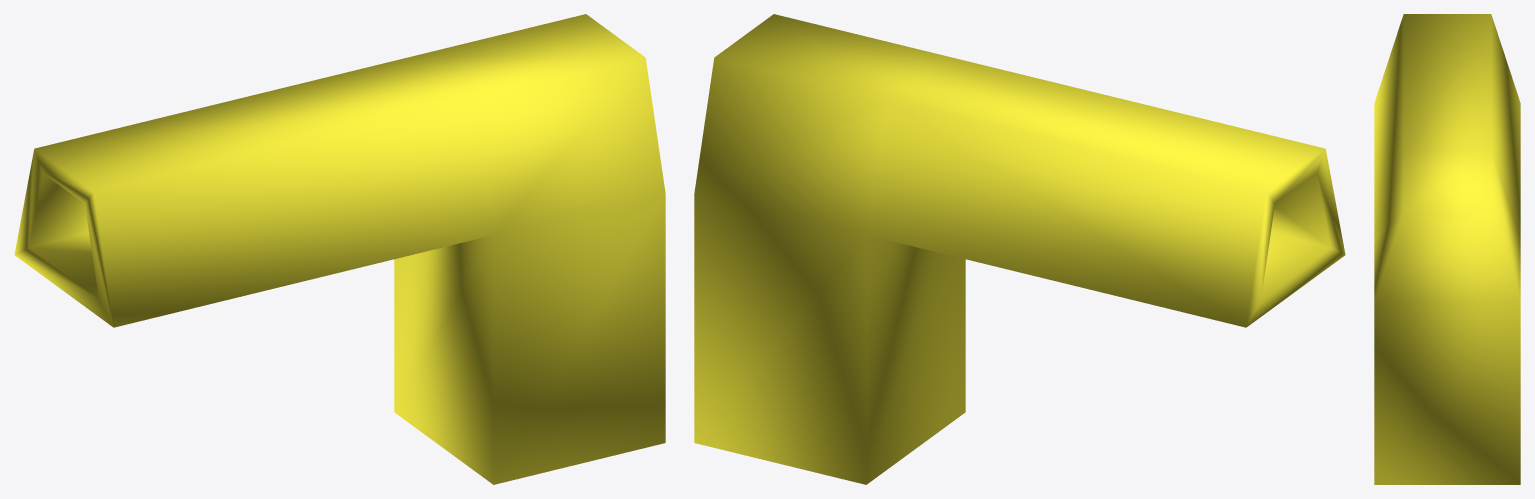
File: tank topper.fbx
3 views of the same model, side by side, from view 1: azimuth 30°, elevation 25°; view 2: azimuth 150°, elevation 25°; view 3: azimuth 270°, elevation 25° (orthographic). The views are drawn at different scales.
Parts seen in each view (by area): view 1: tank_topper; view 2: tank_topper; view 3: tank_topper.
Boxes of the visible parts, bbox=[...] form: tank_topper: bbox=[14, 14, 665, 484]; tank_topper: bbox=[694, 14, 1345, 484]; tank_topper: bbox=[1374, 14, 1520, 484].
Bounding box in the file's own units: 0.7702 × 0.4947 × 0.24.
